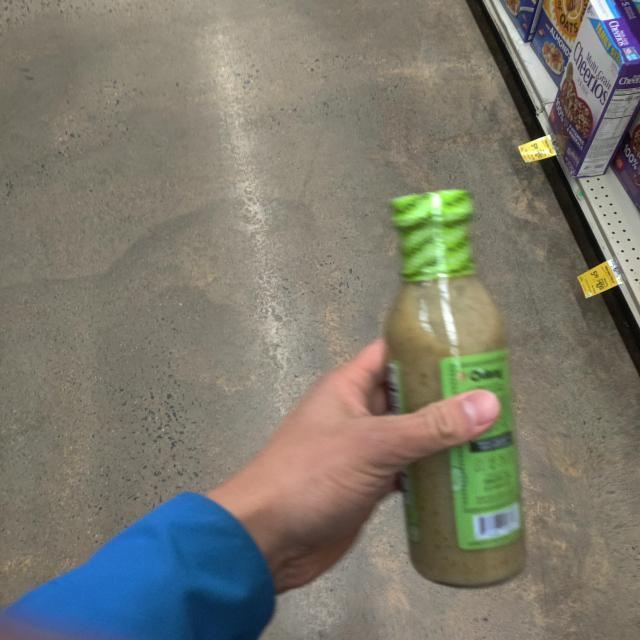Sauce: (368, 173, 544, 610)
